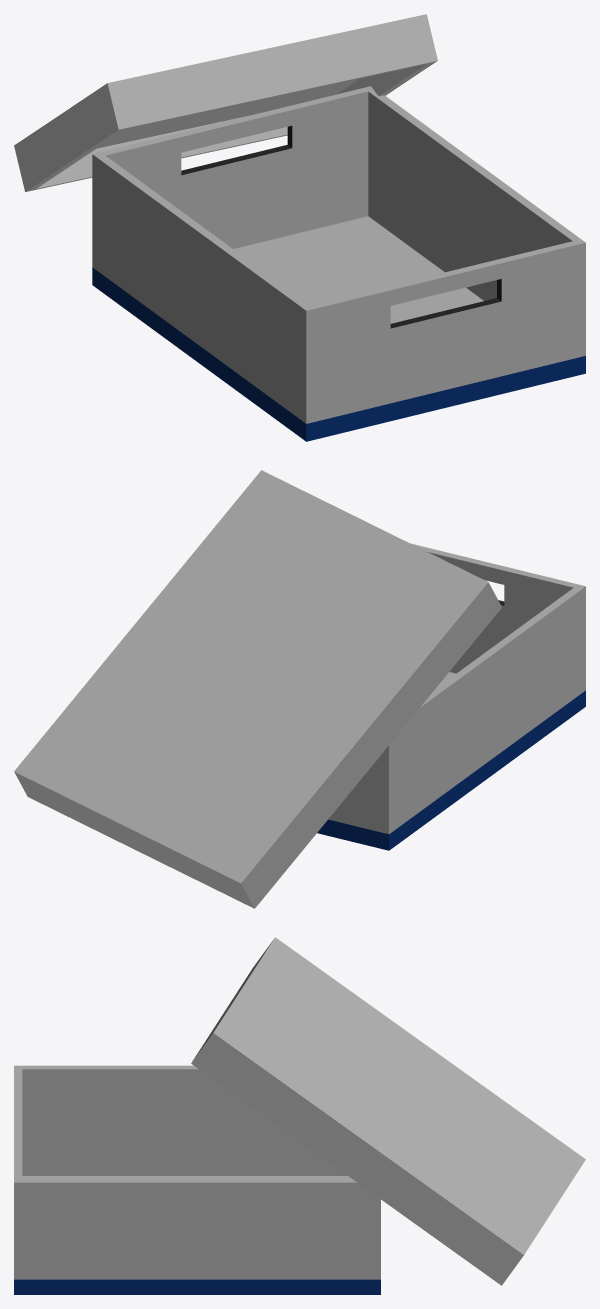
The model's file is BoxOpenV1White.fbx.
3 views of the same model, one above another, from view 1: azimuth 30°, elevation 25°; view 2: azimuth 150°, elevation 25°; view 3: azimuth 270°, elevation 25° (orthographic). The views are drawn at different scales.
Visible parts, largest first — view 1: BoxOpenV1White; view 2: BoxOpenV1White; view 3: BoxOpenV1White.
Boxes of the visible parts, bbox=[...] form: BoxOpenV1White: bbox=[14, 14, 585, 441]; BoxOpenV1White: bbox=[14, 470, 585, 908]; BoxOpenV1White: bbox=[14, 937, 585, 1294].
Bounding box in the file's own units: 44.7 × 32.62 × 69.31.
